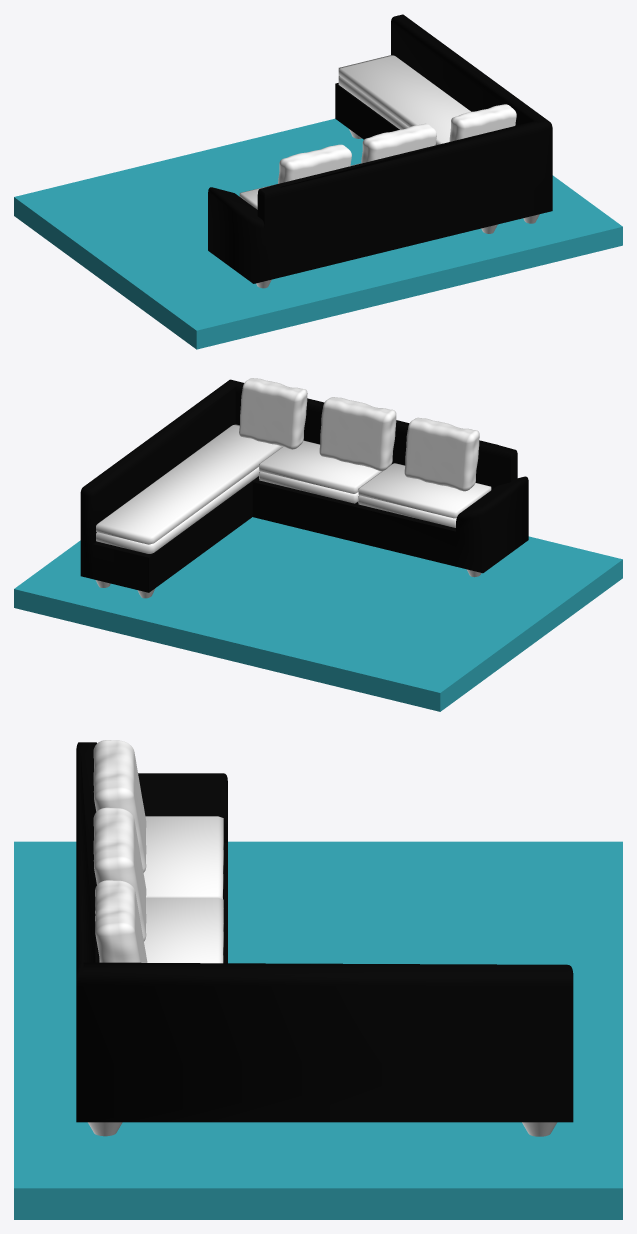
The model's file is mueble.glb.
3 views of the same model, one above another, from view 1: azimuth 30°, elevation 25°; view 2: azimuth 150°, elevation 25°; view 3: azimuth 270°, elevation 25° (orthographic). The views are drawn at different scales.
Visible parts, largest first — view 1: Object_4, Object_3, Object_5, Object_7, Object_6, Object_8; view 2: Object_4, Object_3, Object_5, Object_7, Object_6, Object_8; view 3: Object_4, Object_3, Object_5, Object_7, Object_8, Object_6.
Boxes of the visible parts, box(x1,y1,x2,y2) form: Object_4: box(14, 118, 622, 349); Object_3: box(208, 14, 552, 283); Object_5: box(239, 55, 539, 288); Object_7: box(361, 123, 436, 163); Object_6: box(278, 144, 351, 183); Object_8: box(449, 104, 516, 141); Object_4: box(14, 517, 622, 711); Object_3: box(80, 379, 528, 592); Object_5: box(95, 424, 491, 598); Object_7: box(319, 397, 396, 471); Object_6: box(404, 417, 479, 491); Object_8: box(239, 378, 307, 449); Object_4: box(14, 841, 622, 1219); Object_3: box(76, 742, 573, 1122); Object_5: box(88, 816, 557, 1136); Object_7: box(93, 807, 146, 941); Object_8: box(95, 880, 147, 962); Object_6: box(93, 740, 146, 872).
Size of the model in its own units: 79.1 by 24.61 by 58.69.
